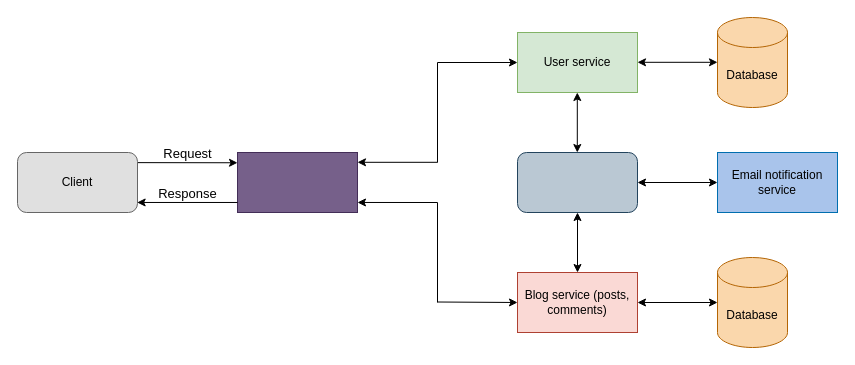
Image size: 855x365. Some labels were removed from this diagram. Each missing label, with the centre of its shape:
BFF: [297,182]
RabbitMQ: [577,182]
